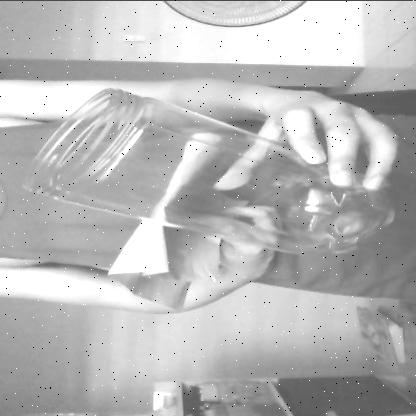Plastic Bottle: (26, 84, 399, 255)
